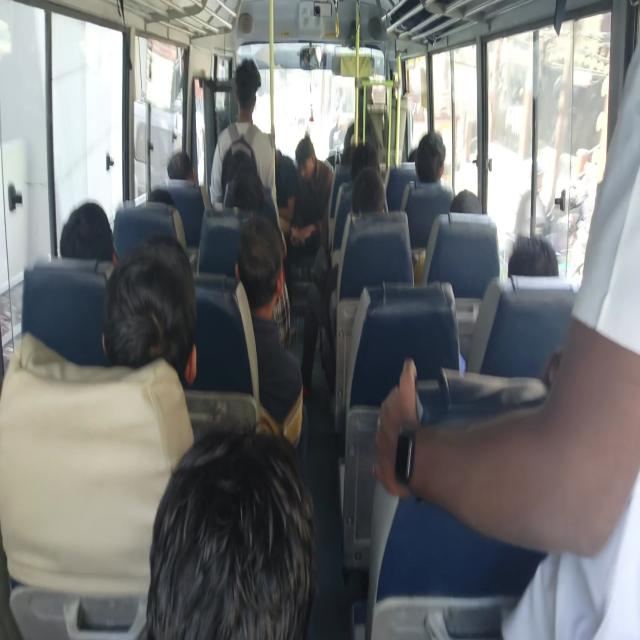person: (556, 5, 640, 561), (170, 432, 308, 596), (119, 257, 196, 347), (237, 219, 284, 307), (62, 212, 124, 254), (507, 225, 555, 278), (233, 66, 267, 130), (270, 134, 298, 208), (352, 180, 388, 216), (418, 139, 444, 188), (223, 173, 258, 207), (351, 141, 379, 180), (144, 186, 177, 218), (296, 138, 321, 180), (167, 156, 203, 180), (455, 185, 475, 218), (402, 143, 423, 171)
